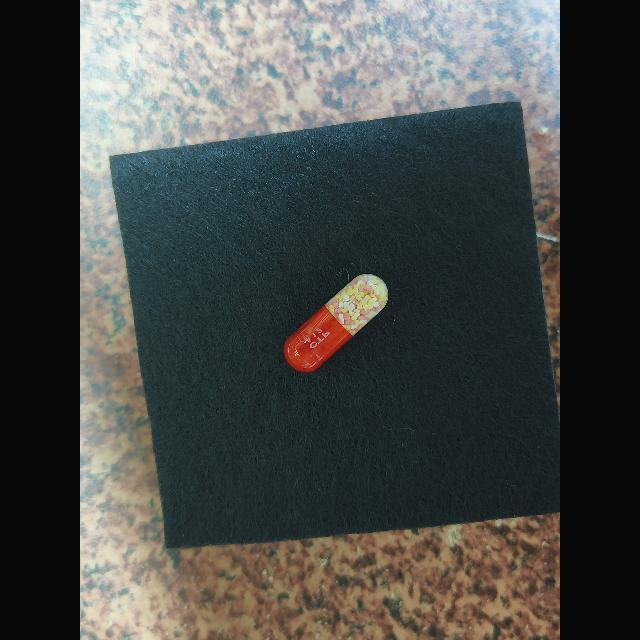Intact Capsule: (283, 274, 388, 372)
